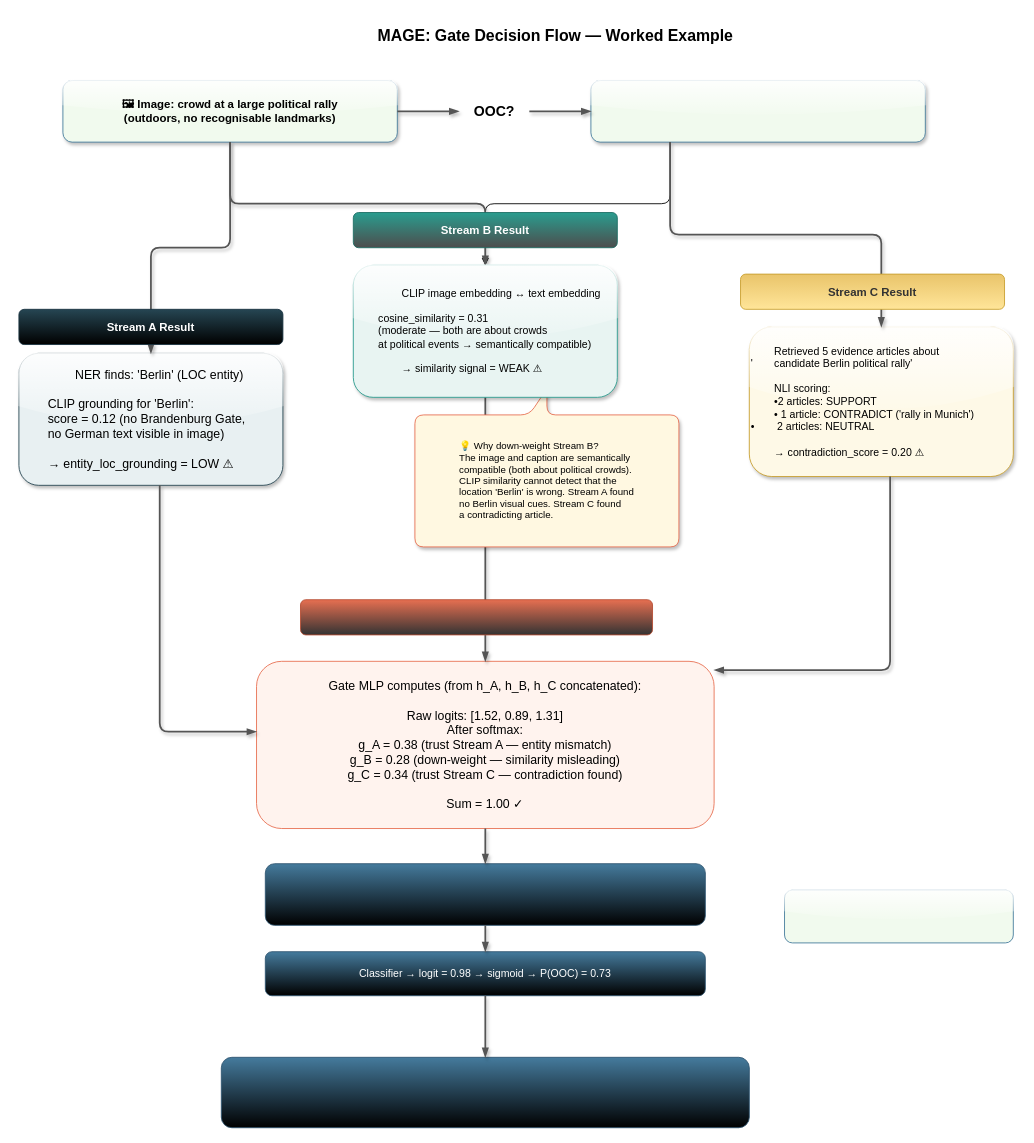
Image size: 1034x1143. Some labels were removed from this diagram. The shapes that lost their labels are listed below. From the top down, each one's centre as x and y in pixels, then its label:
pixel 759 112: 📝 Caption: "Thousands gather in support of candidate in Berlin"
pixel 476 617: Gate MLP
pixel 484 894: Weighted Sum z = 0.38·h_A + 0.28·h_B + 0.34·h_C (32-dimensional vector)
pixel 898 916: Ground truth: OOC = 1 (image is from a Buenos Aires rally, not Berlin)
pixel 484 1092: P(OOC) = 0.73 ≥ threshold 0.50 → PREDICTED: OUT-OF-CONTEXT ✓ (correct)
